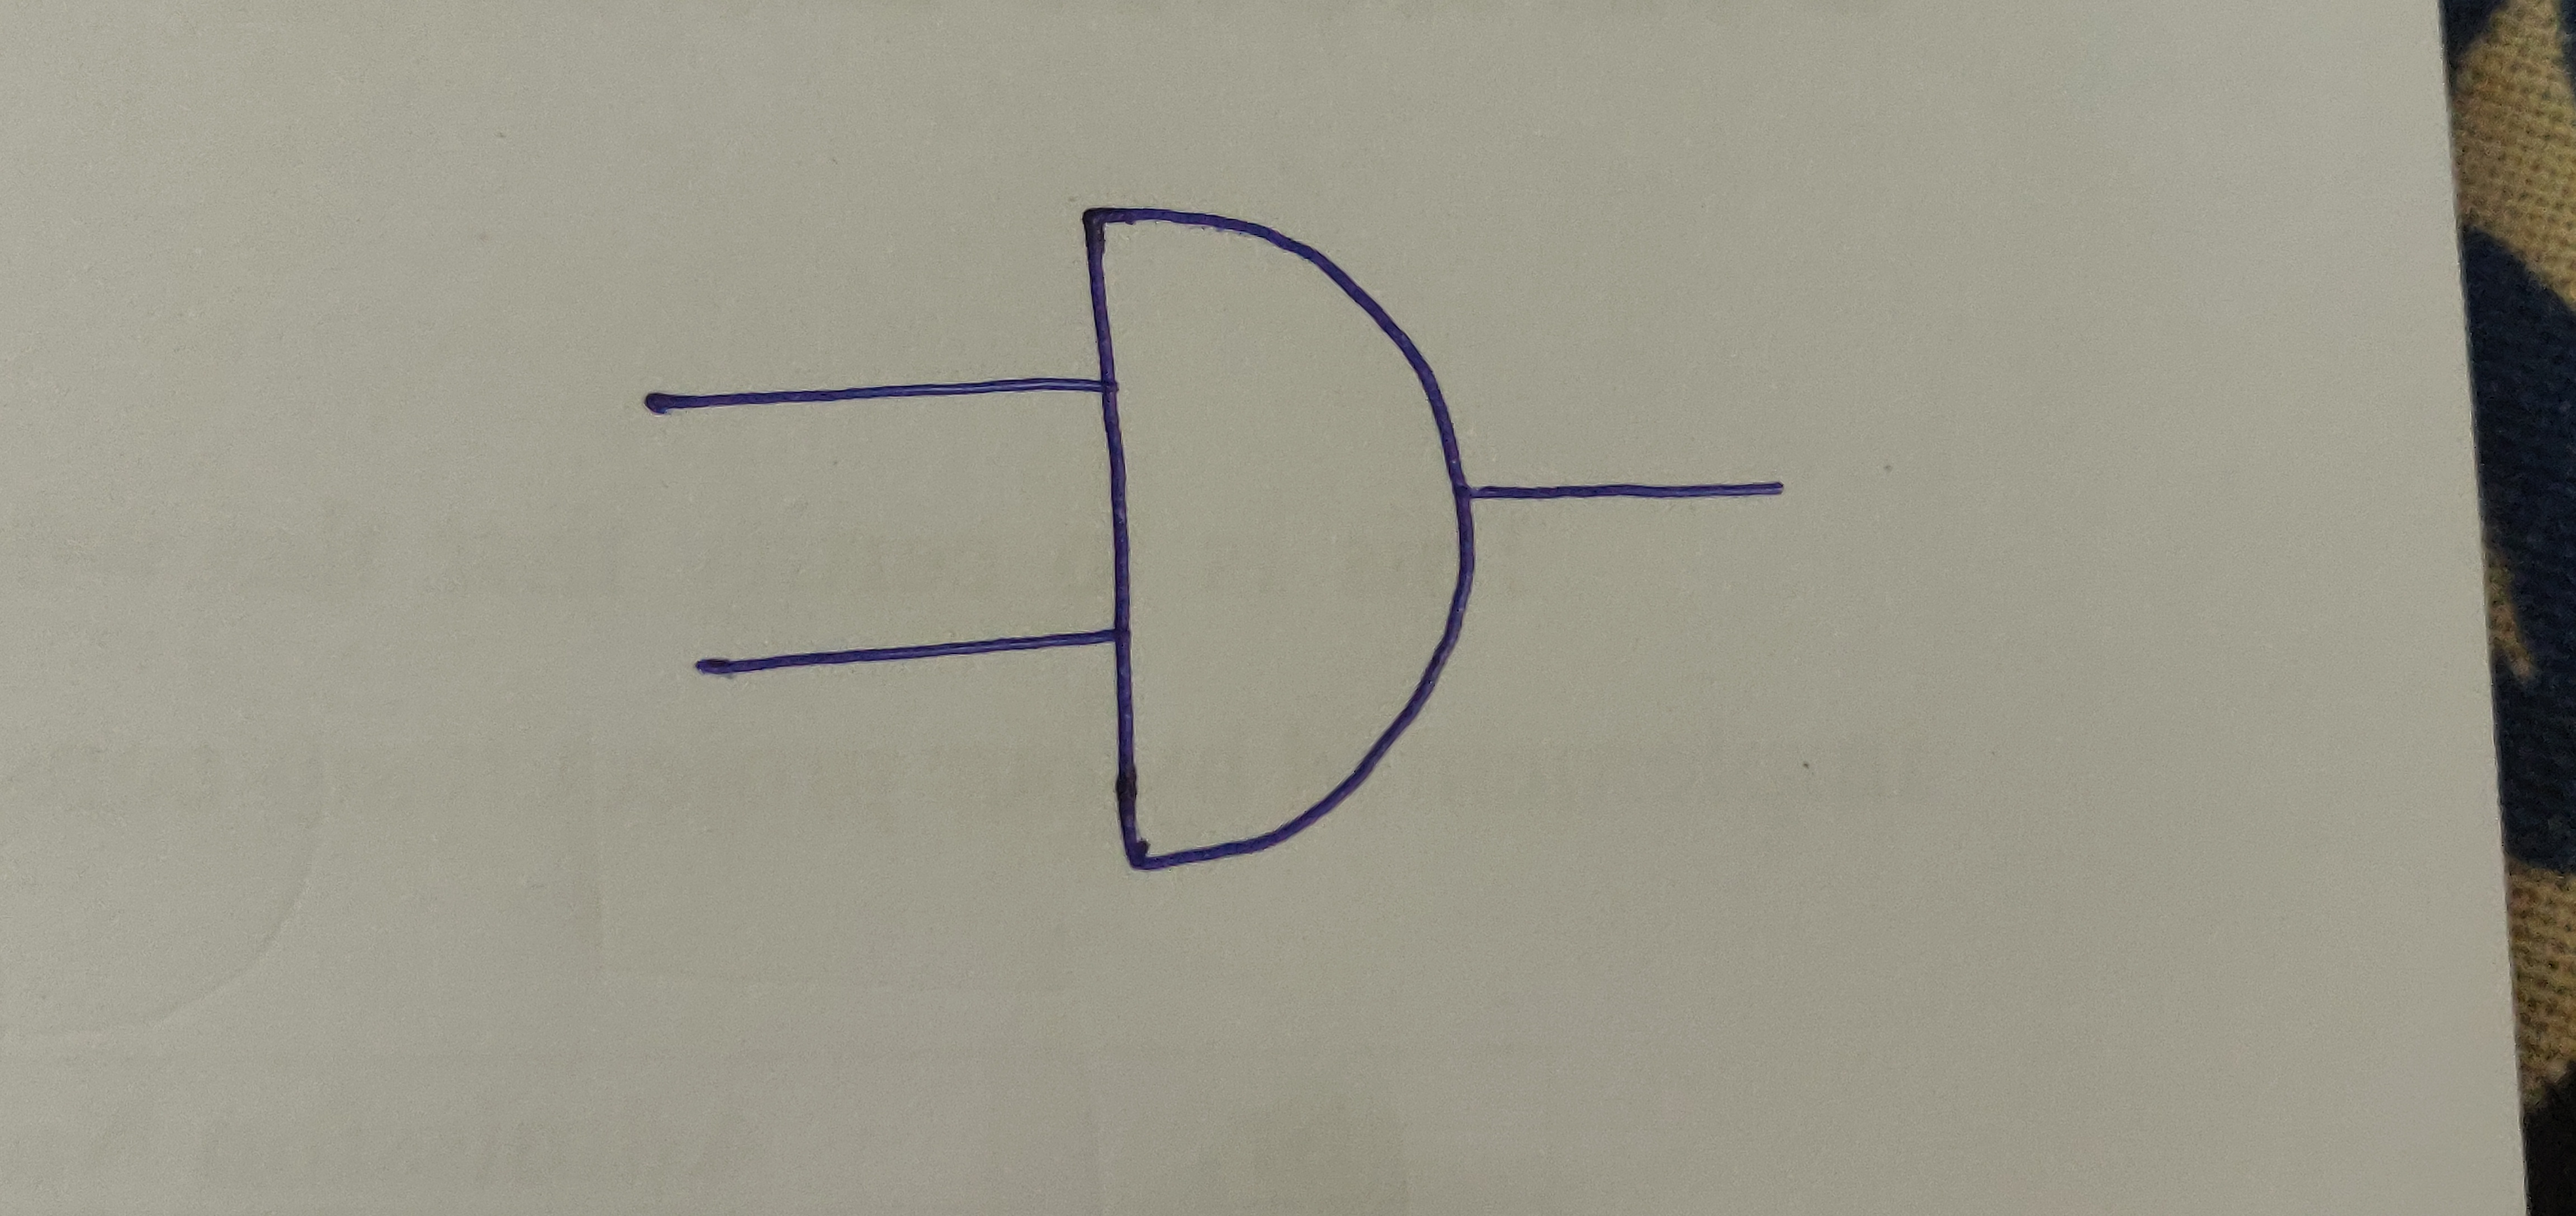and: (1071, 197, 1485, 868)
